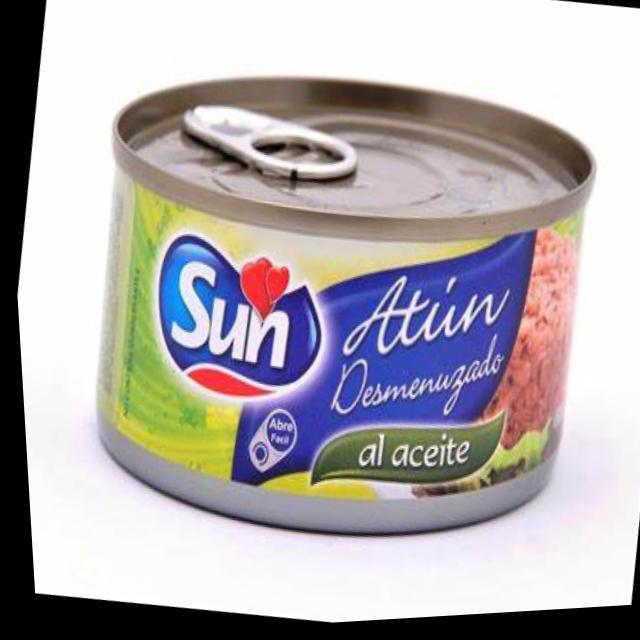Lata: (33, 5, 633, 603)
